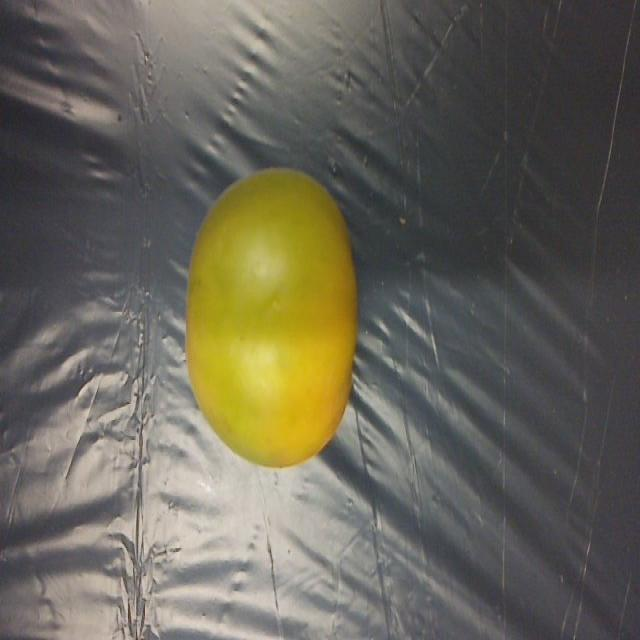yesil: (142, 150, 377, 480)
